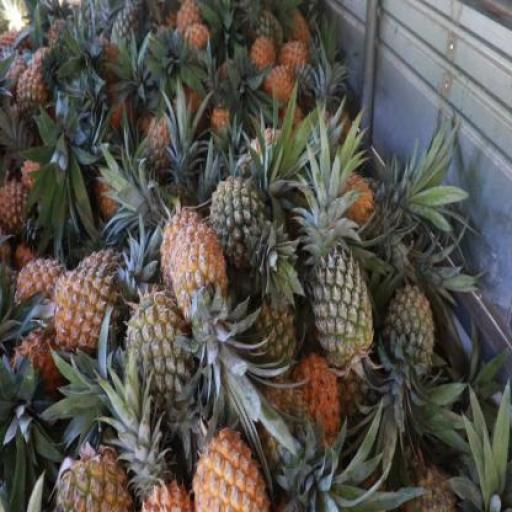------------------------------: (123, 293, 195, 402), (208, 174, 272, 273), (57, 443, 130, 512), (16, 66, 48, 124)
Pineapple - v8 v1: (54, 259, 124, 360), (191, 428, 268, 511), (175, 220, 235, 322), (160, 207, 209, 296), (16, 254, 63, 316), (0, 176, 38, 230)
